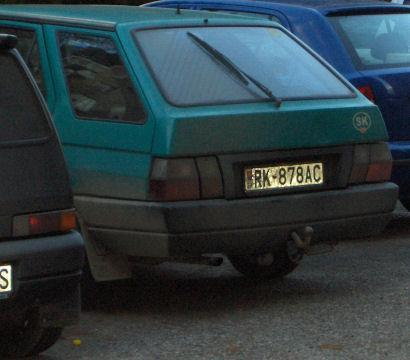placa de veiculo: (232, 155, 338, 202)
